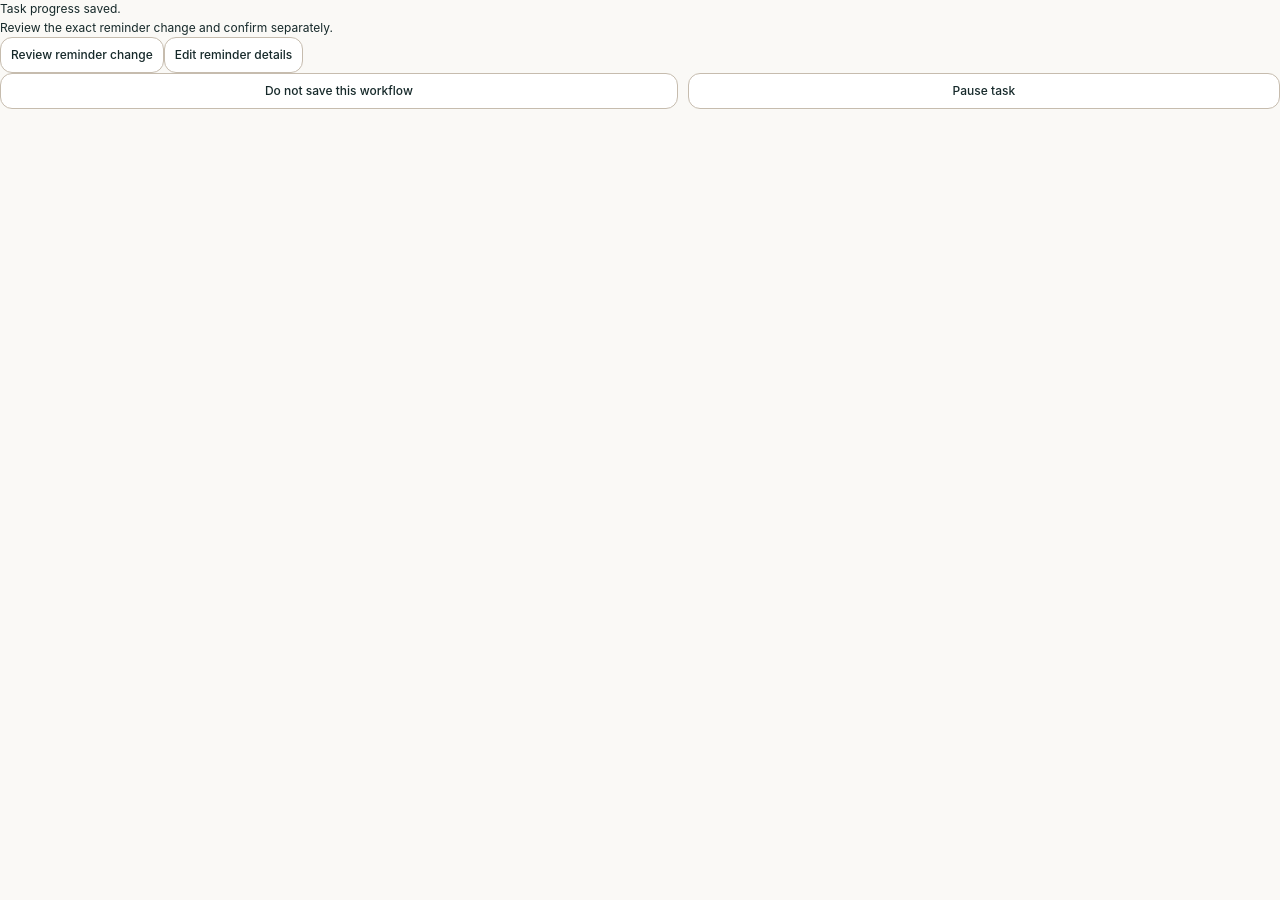
Test: keeps a failed snooze review and requires result checking instead of resending
Click the button "Review reminder change" at coordinates (82, 55), box x1=0 y1=37 x2=164 y2=73
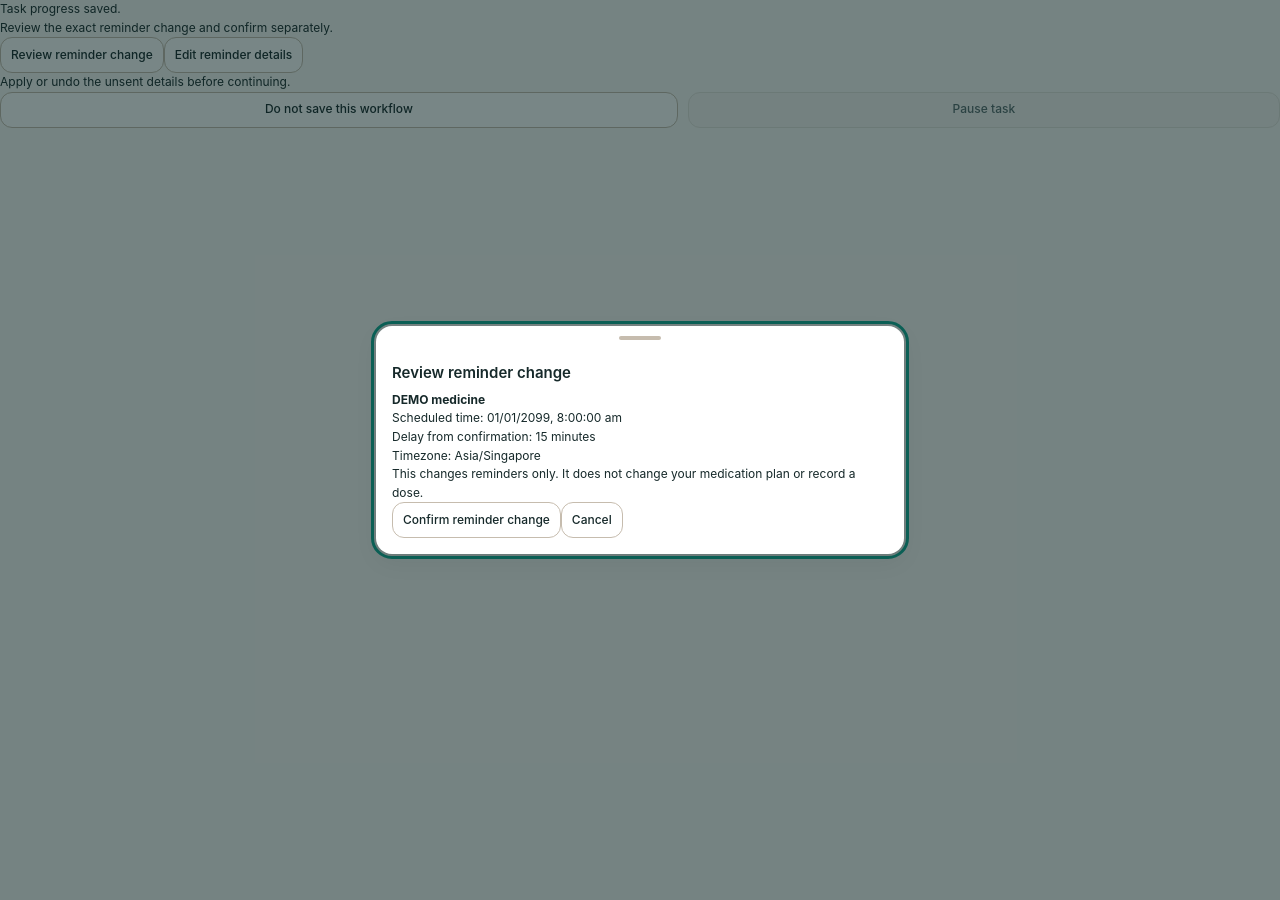
Click the button "Confirm reminder change" at coordinates (476, 520), box x1=392 y1=502 x2=561 y2=538
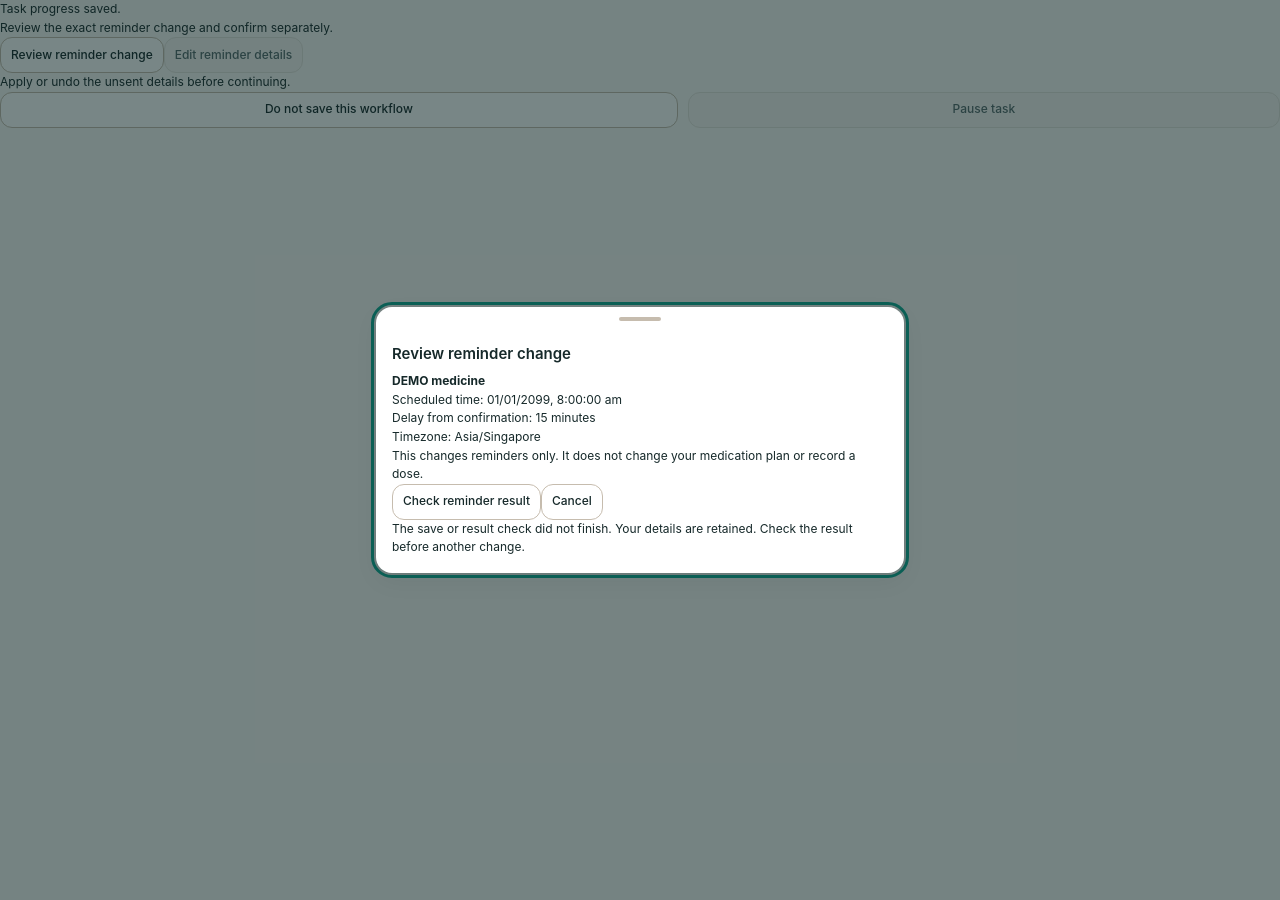
Check: the text "DEMO medicine" is shown, box x1=392 y1=373 x2=485 y2=388
Check: the message is shown, box x1=392 y1=520 x2=888 y2=557
Check: the button "Check reminder result" is shown, box x1=392 y1=484 x2=541 y2=520
